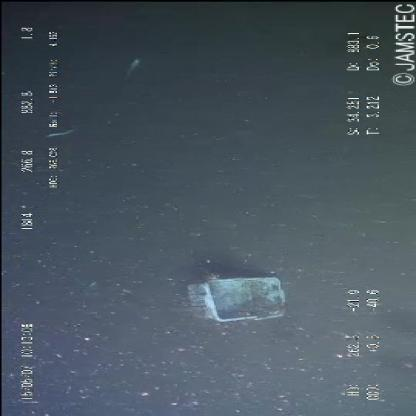Rác: (182, 272, 292, 328)
